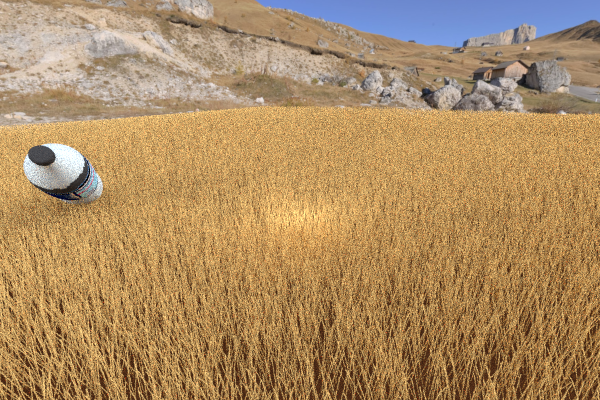bottle: (23, 143, 102, 205)
can: (287, 117, 339, 146), (323, 107, 352, 123)
